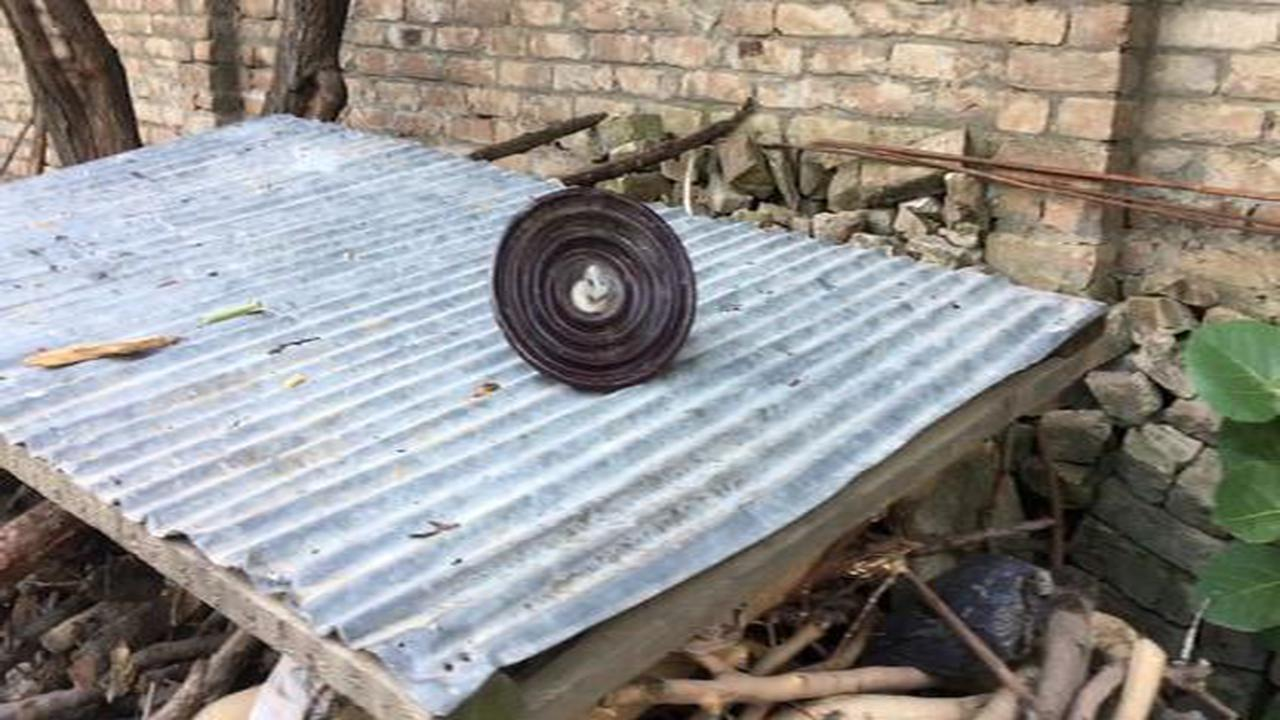insulator_disc: (491, 183, 707, 396)
